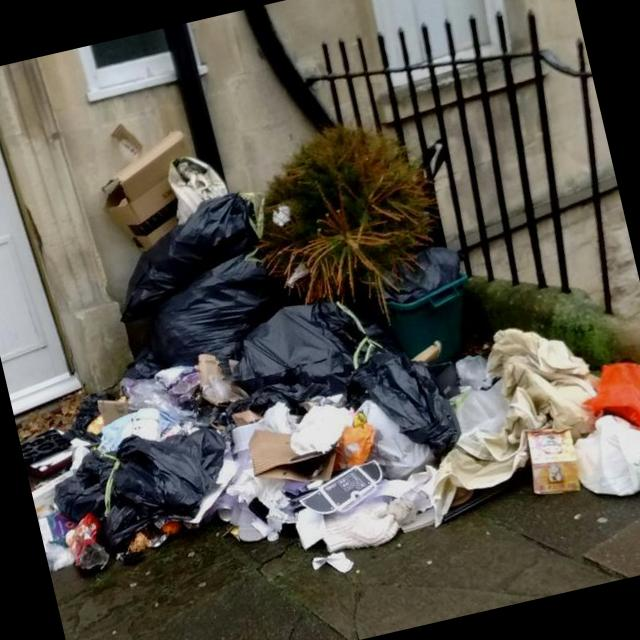high trash: (20, 127, 640, 572)
